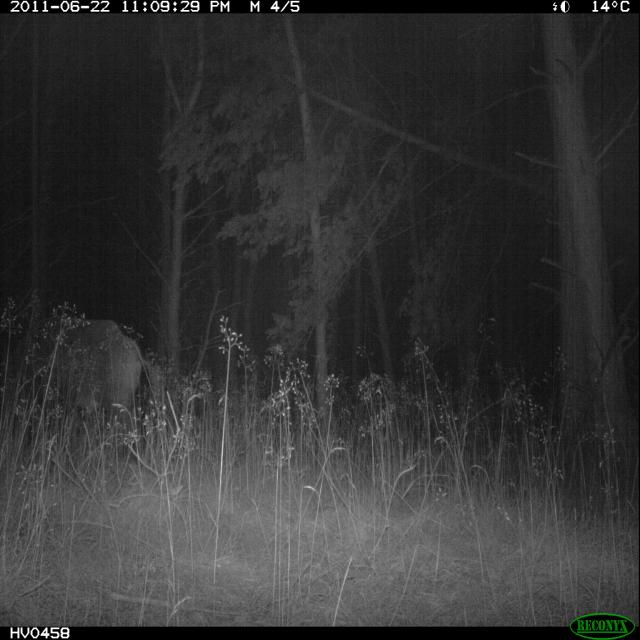boar: (26, 300, 167, 432)
